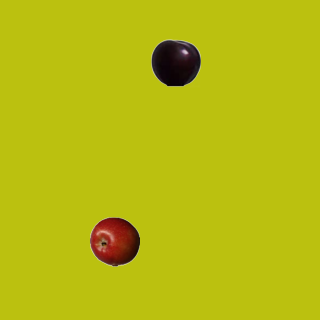Apple Braeburn: (89, 216, 139, 266)
Cherry Wax Black: (150, 37, 200, 87)
